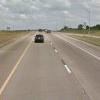Car: (32, 31, 45, 44)
